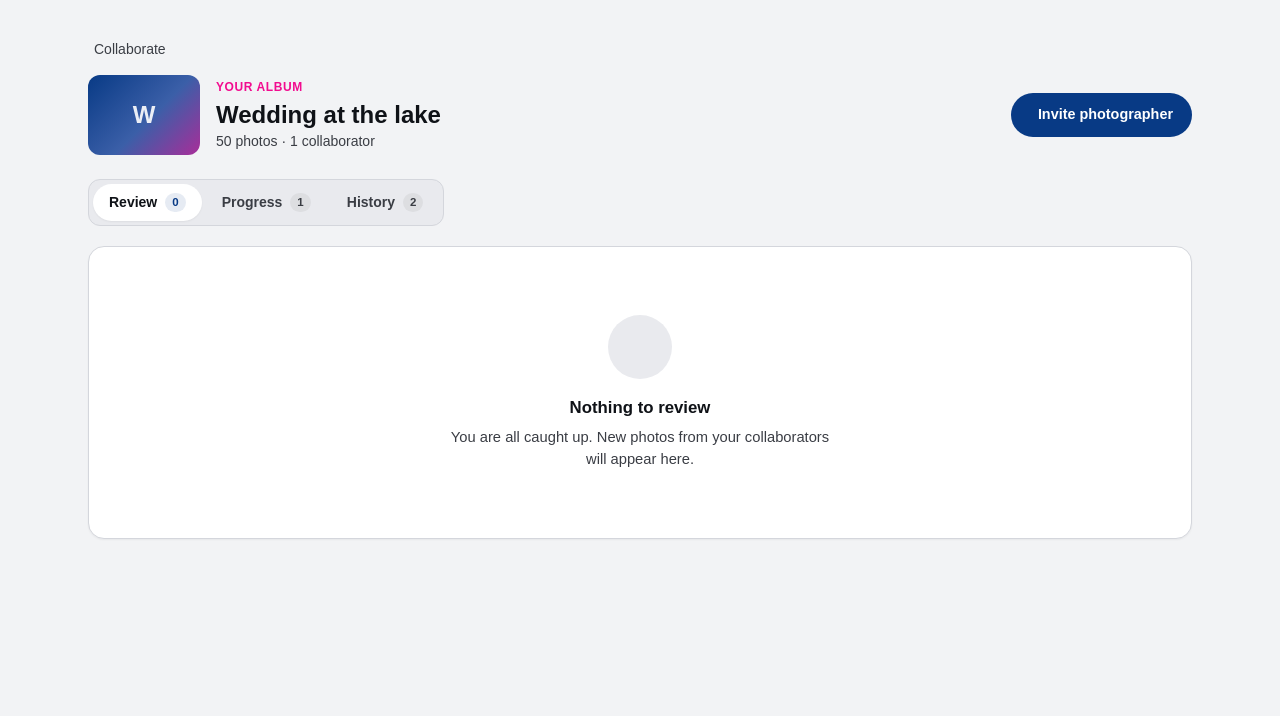
Test: when there is nothing to track yet › says you are all caught up when everything is decided
Click the tab "Progress 1" at [266, 202], box 206,184 -> 327,221
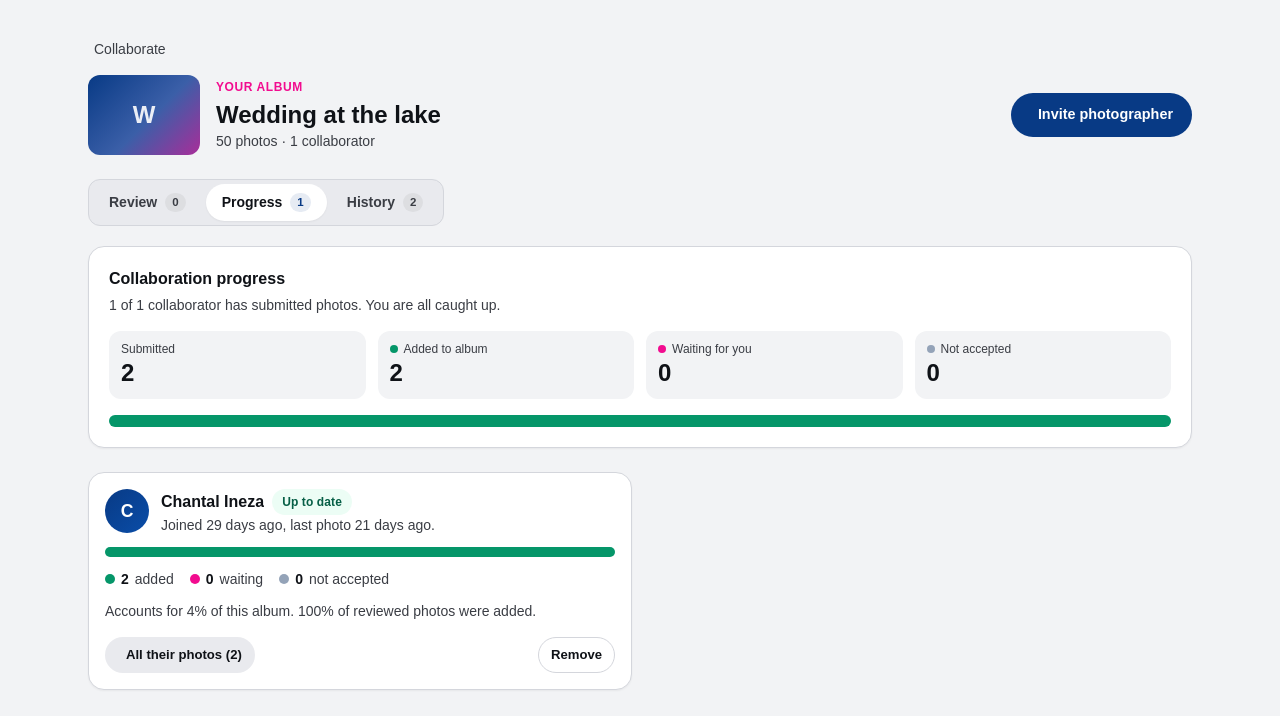
Expected: the element with test id "progress-summary" shows "You are all caught up.", 109,297 -> 500,313
